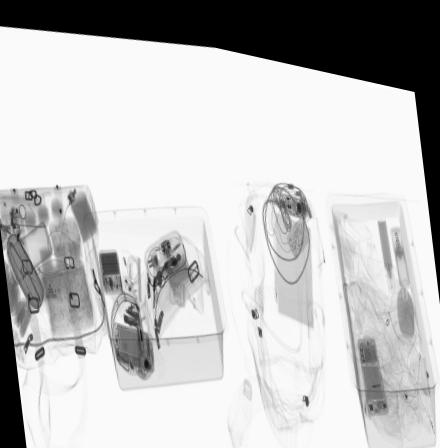Powerbank: (96, 243, 123, 287)
